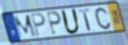C: (94, 7, 112, 31)
M: (13, 13, 38, 40)
P: (30, 13, 47, 39), (46, 11, 63, 36)
T: (78, 8, 93, 32)
U: (60, 8, 82, 36)
